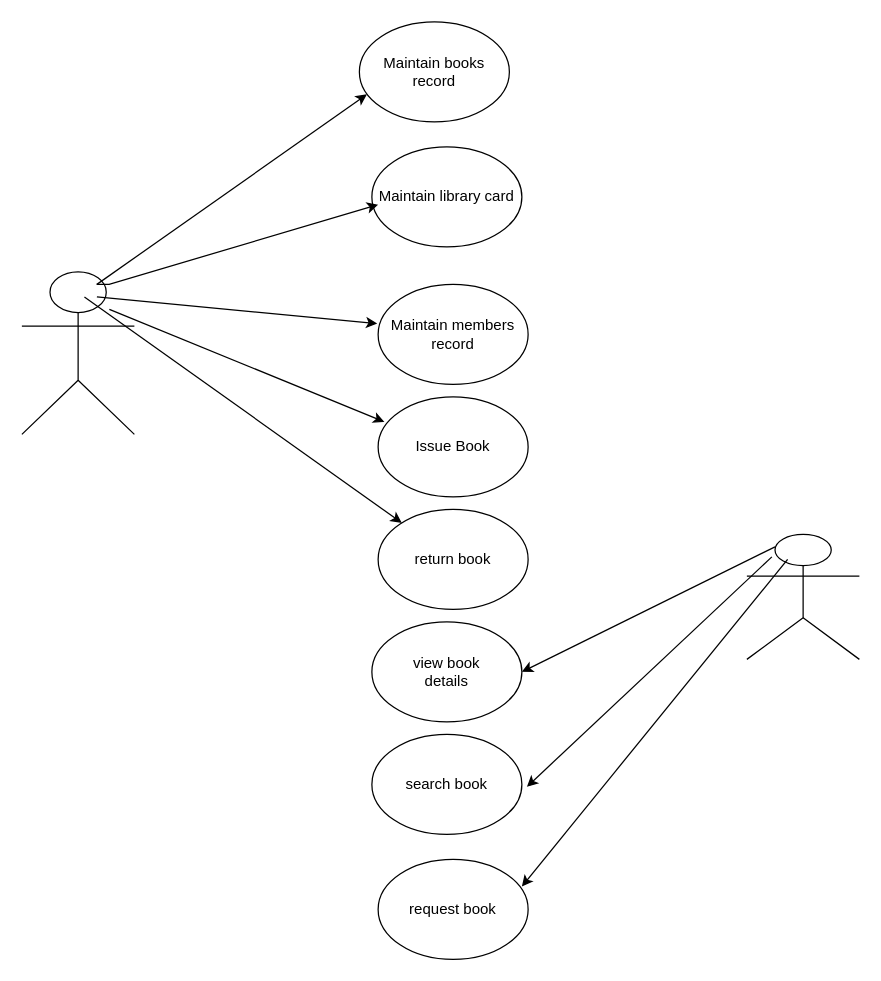
Some shapes in this 881 by 981 pixel diagram are drawn without their labels. Each missing label, with the centre of its shape:
Librarian: the point at 77,352
Member: the point at 802,596
